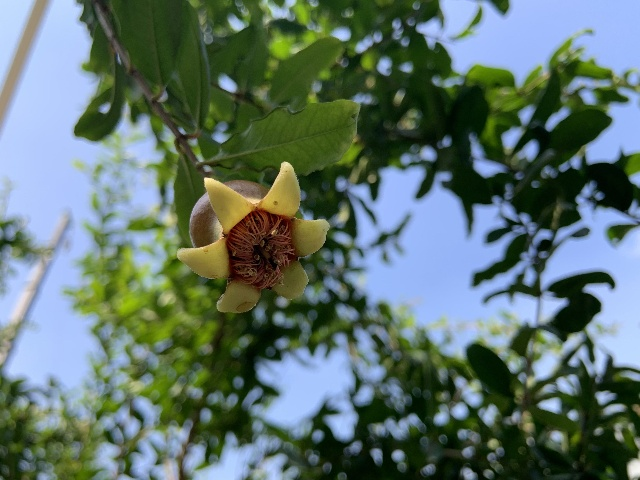early-fruit: (176, 161, 330, 315)
